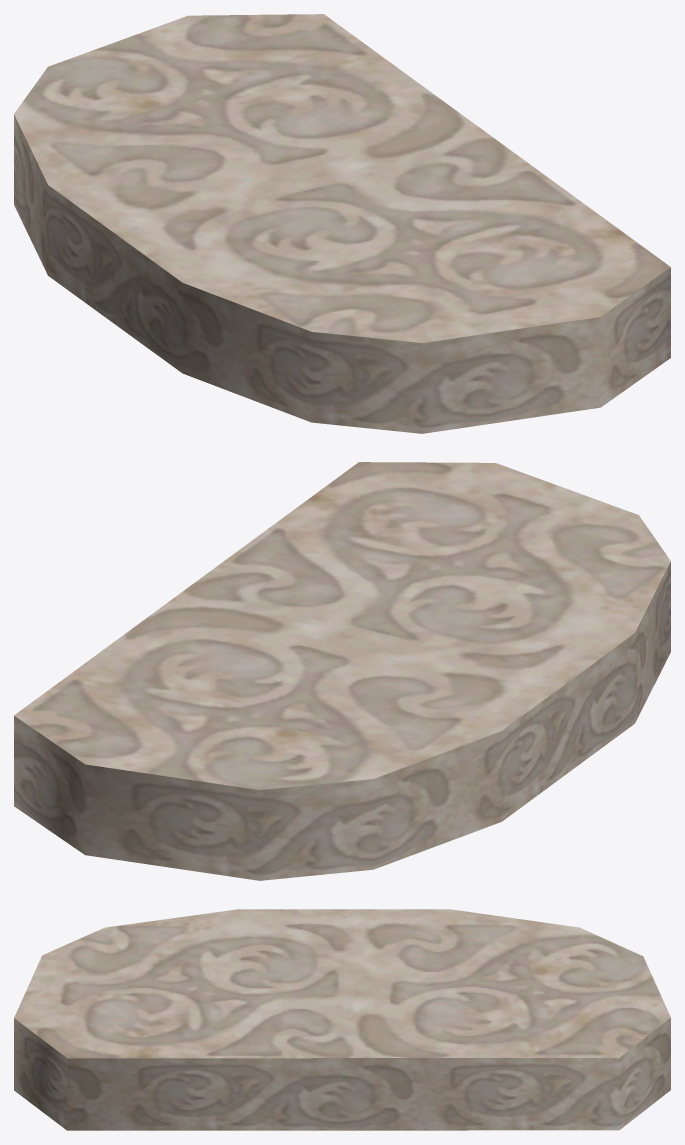
The model's file is EKH_GROTTO_PS_GR_OBJECT06.fbx.
3 renders of one model, top to bottom at view 1: azimuth 30°, elevation 25°; view 2: azimuth 150°, elevation 25°; view 3: azimuth 270°, elevation 25°, orthographic. The views are drawn at different scales.
Visible parts, largest first — view 1: EKH_GROTTO_PS_GR_OBJECT06; view 2: EKH_GROTTO_PS_GR_OBJECT06; view 3: EKH_GROTTO_PS_GR_OBJECT06.
Boxes of the visible parts, x1,y1,x2,y2 form: EKH_GROTTO_PS_GR_OBJECT06: (14, 14, 670, 433); EKH_GROTTO_PS_GR_OBJECT06: (14, 462, 670, 880); EKH_GROTTO_PS_GR_OBJECT06: (14, 909, 670, 1130).
Size of the model in its own units: 26487 by 6000 by 49316.
Materials: 2 (2 with a texture image).
